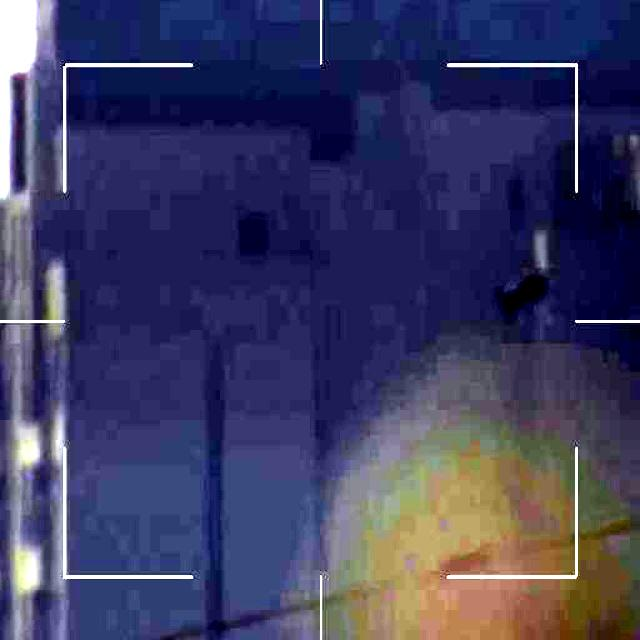bird: (495, 274, 548, 316)
